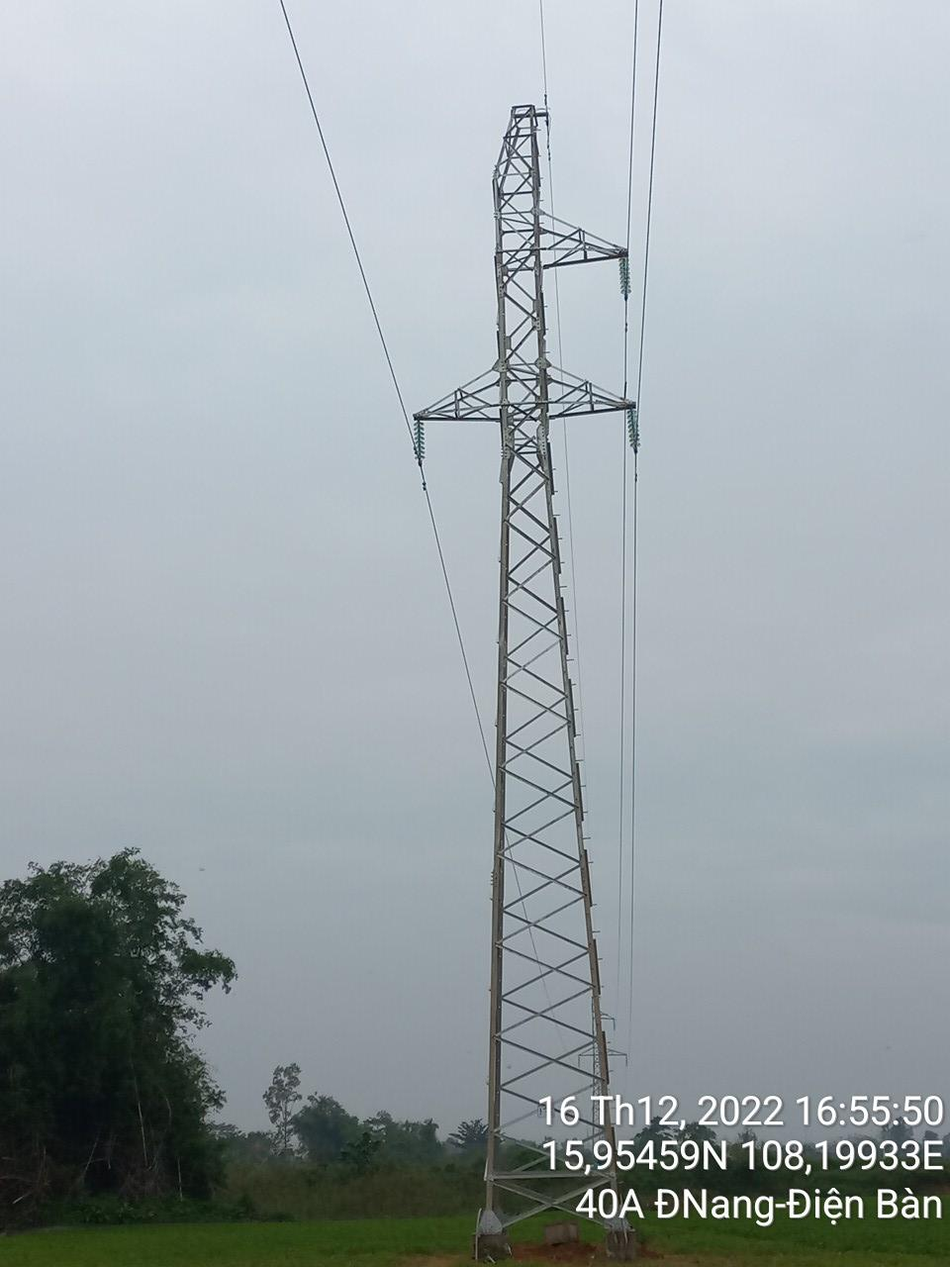power_tower: (433, 87, 651, 1079)
